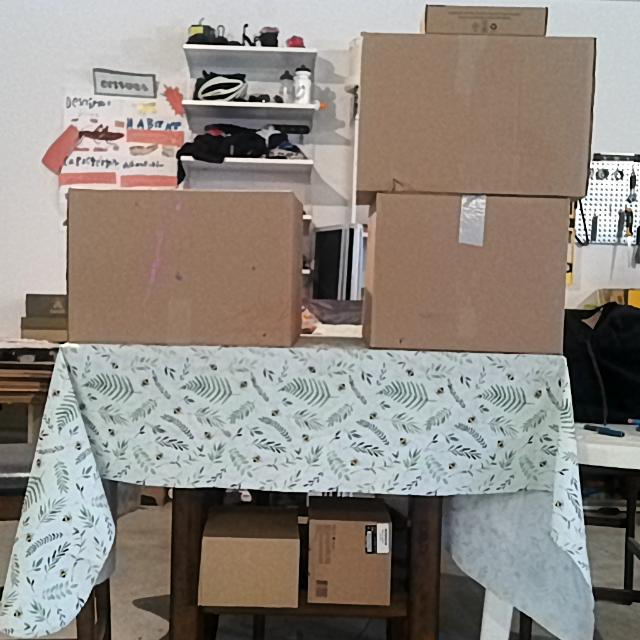box: (361, 38, 592, 195), (69, 189, 286, 345), (370, 196, 566, 354), (309, 523, 394, 607), (202, 536, 299, 608), (423, 5, 550, 33)
